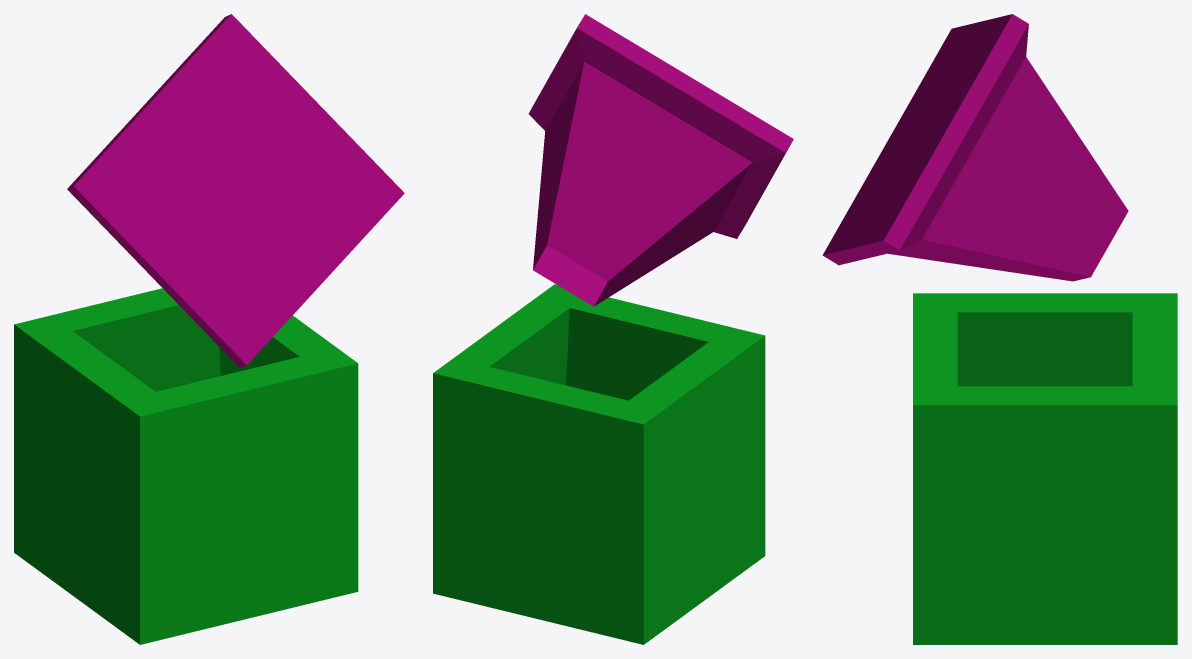
Rendered from AnimatedBox_000021.obj.
3 renders of one model, left to right at view 1: azimuth 30°, elevation 25°; view 2: azimuth 150°, elevation 25°; view 3: azimuth 270°, elevation 25°, orthographic. The views are drawn at different scales.
Parts seen in each view (by area): view 1: Cube, Cube.001; view 2: Cube, Cube.001; view 3: Cube, Cube.001.
Boxes of the visible parts, <box> form: Cube: <box>14,288,358,644</box>; Cube.001: <box>67,14,404,368</box>; Cube: <box>433,284,765,644</box>; Cube.001: <box>528,14,793,306</box>; Cube: <box>913,293,1177,644</box>; Cube.001: <box>822,14,1128,281</box>.
Bounding box in the file's own units: 2.75 × 4.92 × 2.68.
